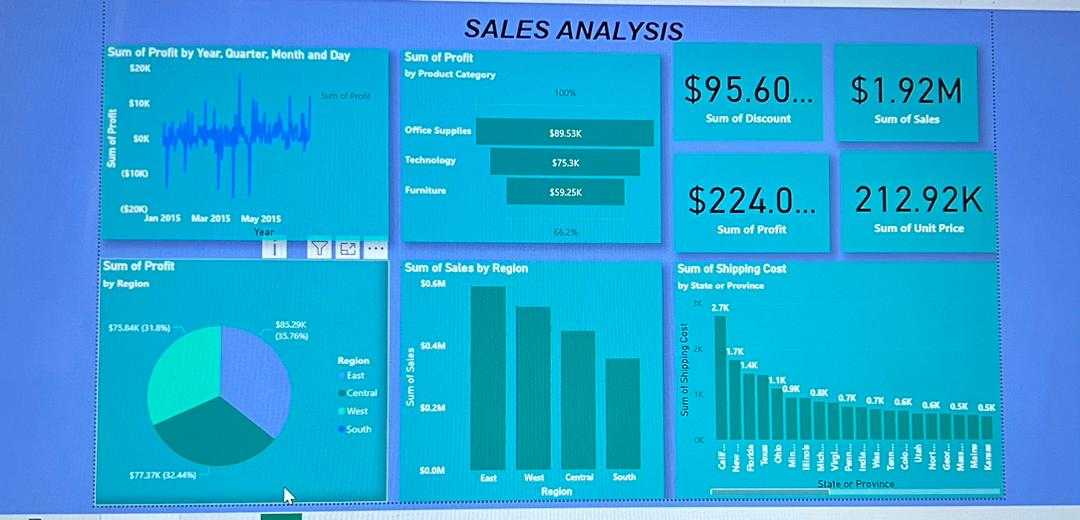

What the dashboard file says about the page in this screenshot:
{"tool":"powerbi","page":{"name":"Page 1","canvas":[1280,720],"ordinal":0},"visuals":[{"type":"textbox","box":[69.9,13.2,1185.6,58.5],"z":0},{"type":"card","fields":{"Values":["Sum(Orders.Profit)"]},"box":[807.4,217.7,227.3,144.6],"z":1000},{"type":"pieChart","fields":{"Y":["Sum(Orders.Profit)"],"Category":["Orders.Region"]},"box":[0,376.7,397.4,343.3],"z":2000},{"type":"clusteredColumnChart","fields":{"Category":["Orders.State or Province"],"Y":["Sum(Orders.Shipping Cost)"]},"box":[807.4,376.7,472.1,343.3],"z":3000},{"type":"card","fields":{"Values":["Sum(Orders.Unit Price)"]},"box":[1052.2,213,227.3,149.4],"z":4000},{"type":"lineStackedColumnComboChart","fields":{"Category":["Orders.Region"],"Y":["Sum(Orders.Sales)"]},"box":[414.6,376.7,373.7,343.5],"z":5000},{"type":"card","fields":{"Values":["Sum(Orders.Sales)"]},"box":[1044.2,54,211.4,144.6],"z":6000},{"type":"card","fields":{"Values":["Sum(Orders.Discount)"]},"box":[807.4,54,219.3,144.6],"z":7000},{"type":"funnel","fields":{"Y":["Sum(Orders.Profit)"],"Category":["Orders.Product Category"]},"box":[414.8,71.5,373.5,278.1],"z":8000},{"type":"lineChart","fields":{"Y":["Sum(Orders.Profit)"],"Category":["Orders.Order Date.Variation.Date Hierarchy.Year","Orders.Order Date.Variation.Date Hierarchy.Quarter","Orders.Order Date.Variation.Date Hierarchy.Month","Orders.Order Date.Variation.Date Hierarchy.Day"]},"box":[0,71.5,397.4,278.1],"z":9000}]}

Visuals, with their boxes in screenshot pixels (x1, y1, x2, y2):
textbox: rect(145, 4, 990, 45)
card - Sum(Orders.Profit): rect(671, 150, 833, 253)
pieChart - Sum(Orders.Profit) x Orders.Region: rect(96, 263, 379, 508)
clusteredColumnChart - Orders.State or Province x Sum(Orders.Shipping Cost): rect(671, 263, 1007, 508)
card - Sum(Orders.Unit Price): rect(845, 146, 1007, 253)
lineStackedColumnComboChart - Orders.Region x Sum(Orders.Sales): rect(391, 263, 657, 508)
card - Sum(Orders.Sales): rect(840, 33, 990, 136)
card - Sum(Orders.Discount): rect(671, 33, 827, 136)
funnel - Sum(Orders.Profit) x Orders.Product Category: rect(391, 45, 657, 244)
lineChart - Sum(Orders.Profit) x Orders.Order Date.Variation.Date Hierarchy.Year: rect(96, 45, 379, 244)
